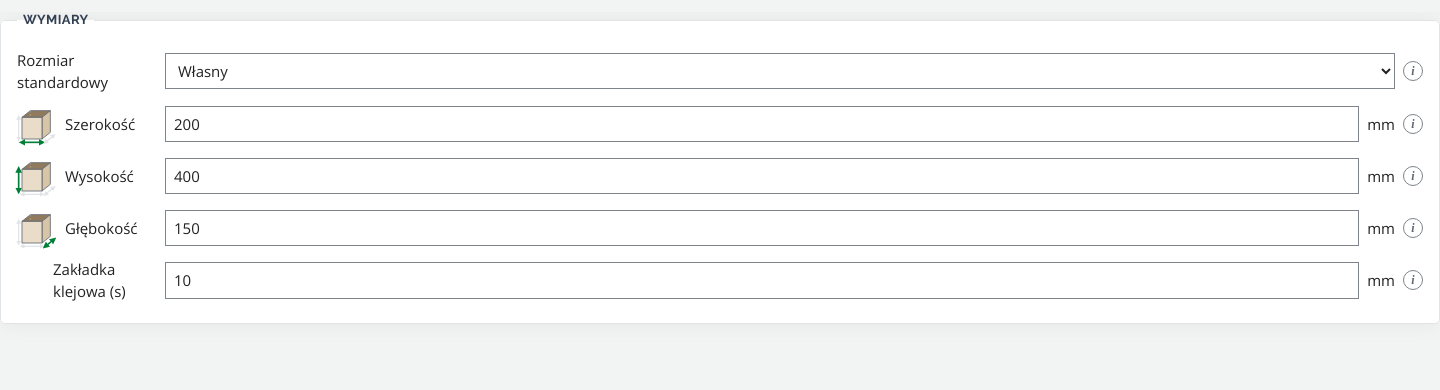
Test: DimensionsForm — width/depth lock › commits the clamped value on blur
The image size is (1440, 390).
Replace the text in the number field labelled "Szerokość" with "1" at (762, 124), box left=165, top=106, right=1359, bottom=142
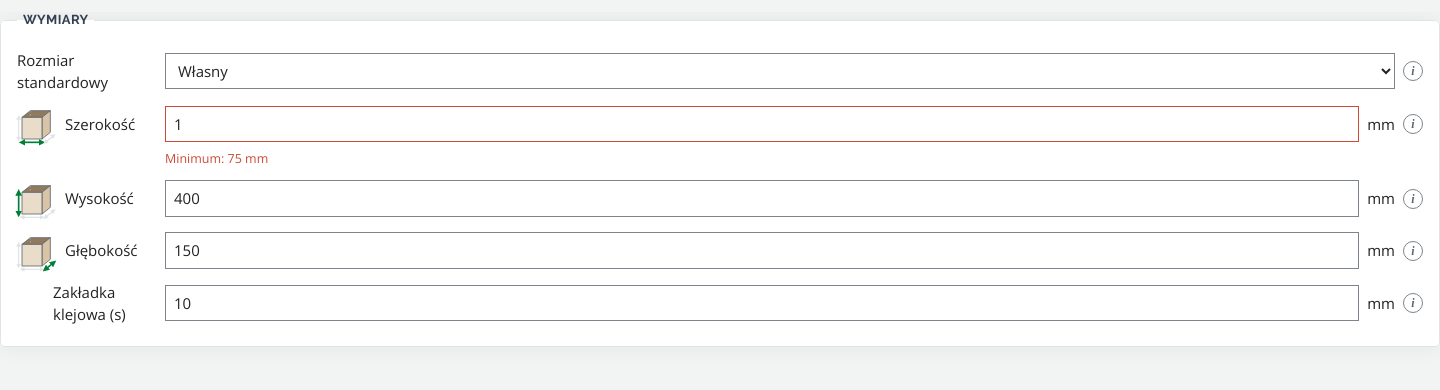
Leave the number field labelled "Szerokość", box left=165, top=106, right=1359, bottom=142
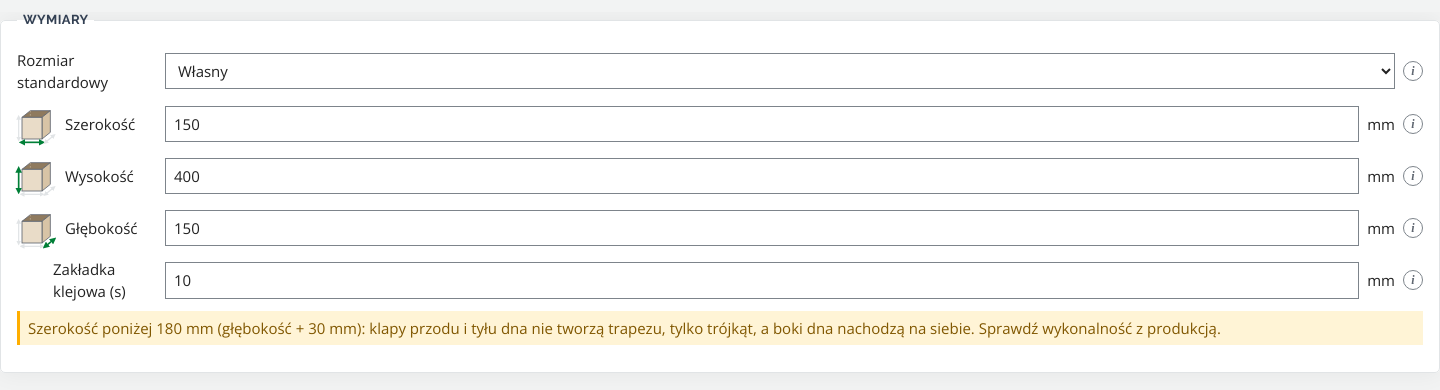
Expected: the number field labelled "Szerokość" holds "150", left=165, top=106, right=1359, bottom=142
Expected: the text "Minimum" is gone
